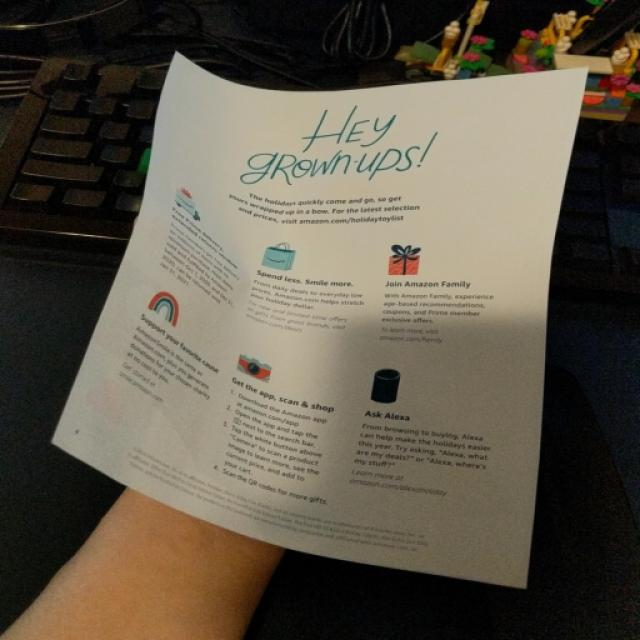document: (54, 54, 585, 588)
